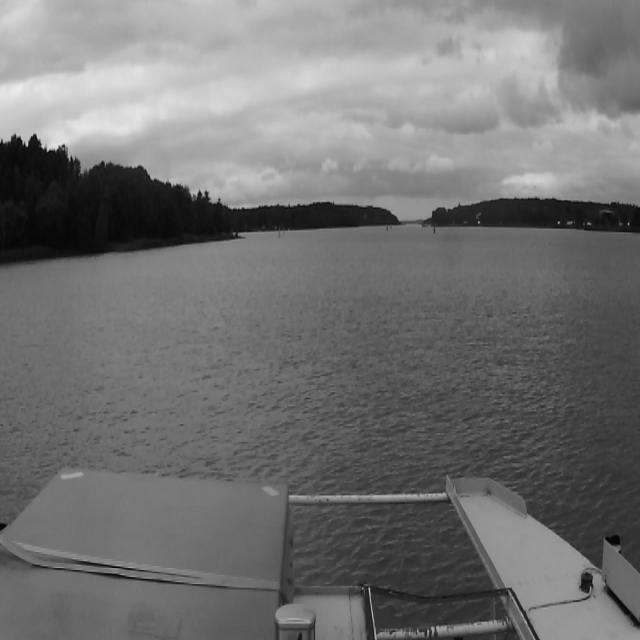buoy: (433, 224, 435, 235), (278, 227, 280, 238), (386, 223, 388, 231)
